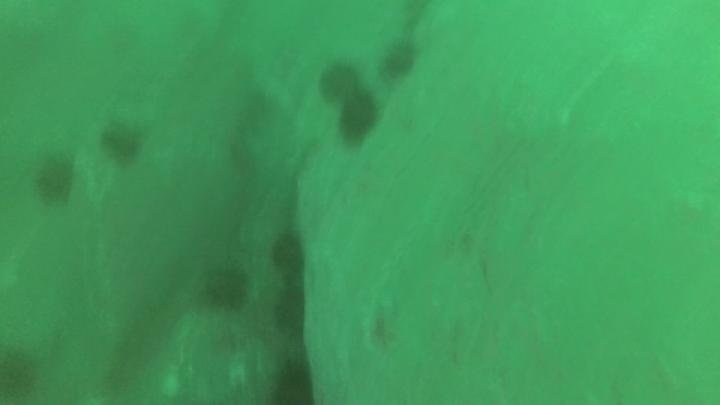echinus: (209, 274, 246, 312), (341, 99, 376, 138), (276, 368, 310, 405), (319, 67, 356, 100), (278, 290, 306, 333), (40, 167, 71, 201), (272, 237, 303, 269), (99, 135, 136, 160), (388, 49, 416, 72)
